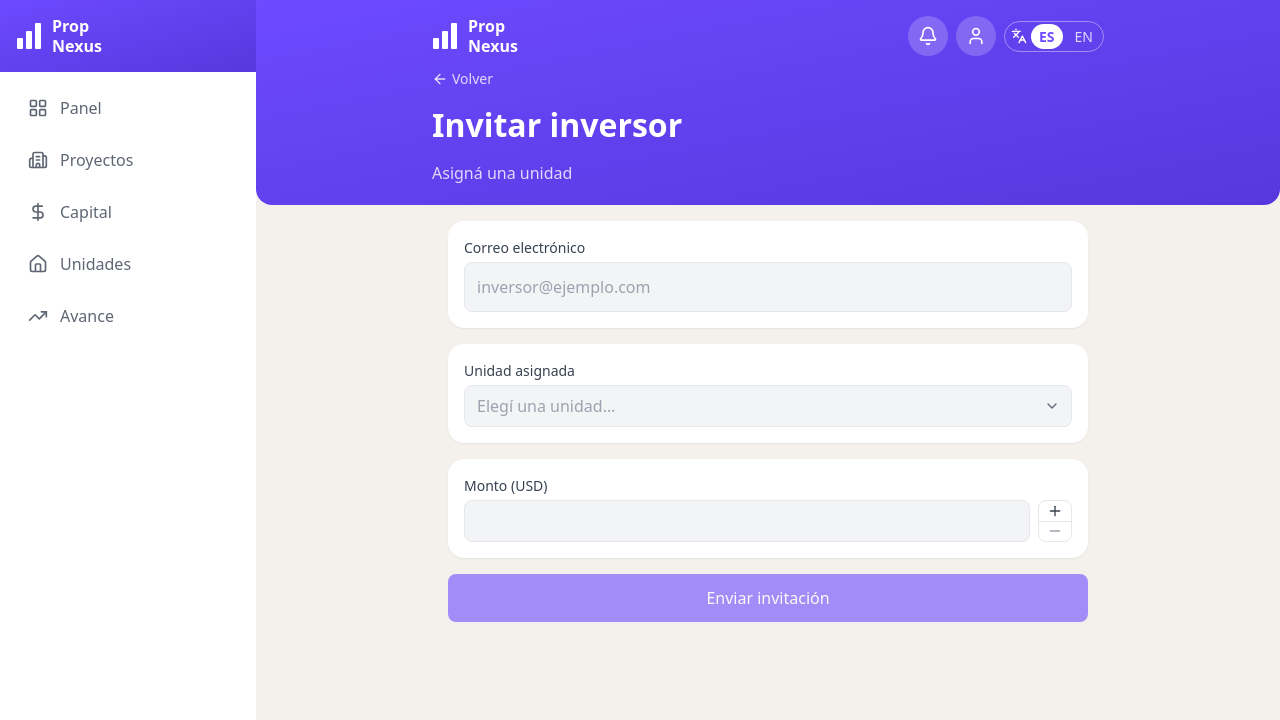
Test: /developer/project/$projectId/invite › elegir una unidad con precio precarga el monto y toma su moneda
Select "Unidad u1" in the dropdown labelled "Unidad asignada": coordinates (768, 406) x1=464 y1=385 x2=1072 y2=427
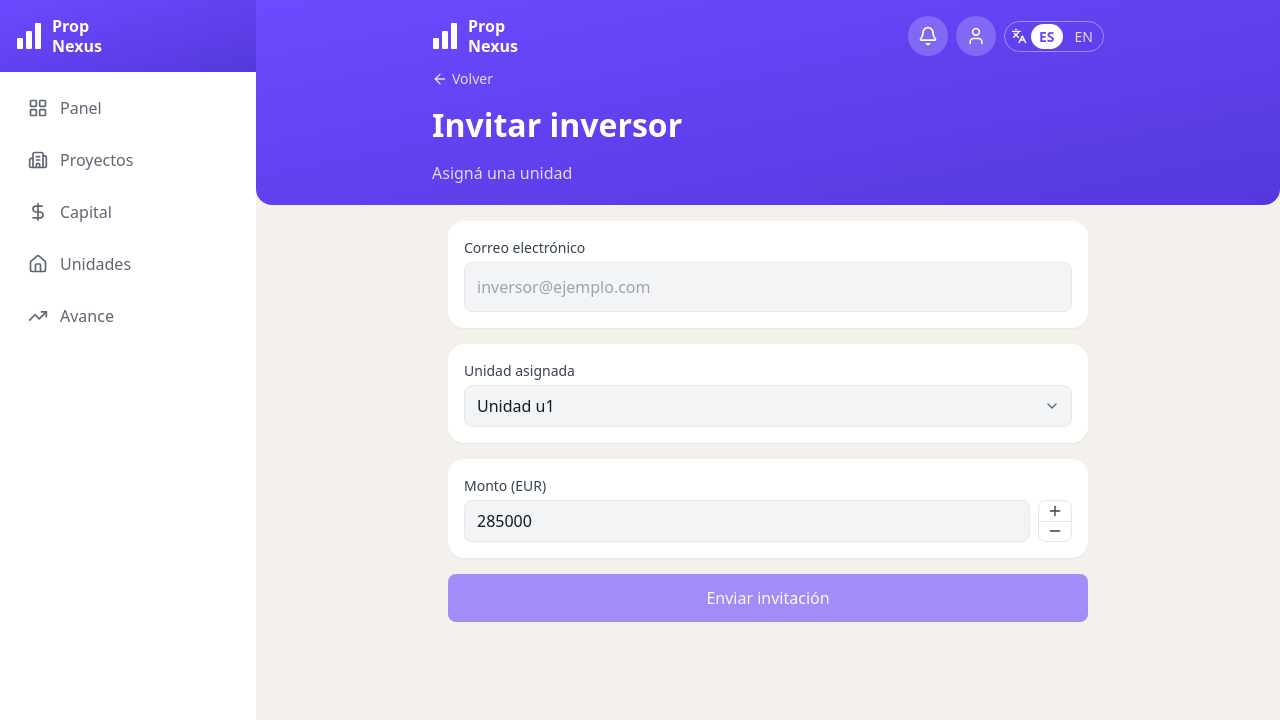
Expected: the number field holds "285000", x1=464 y1=500 x2=1030 y2=542
